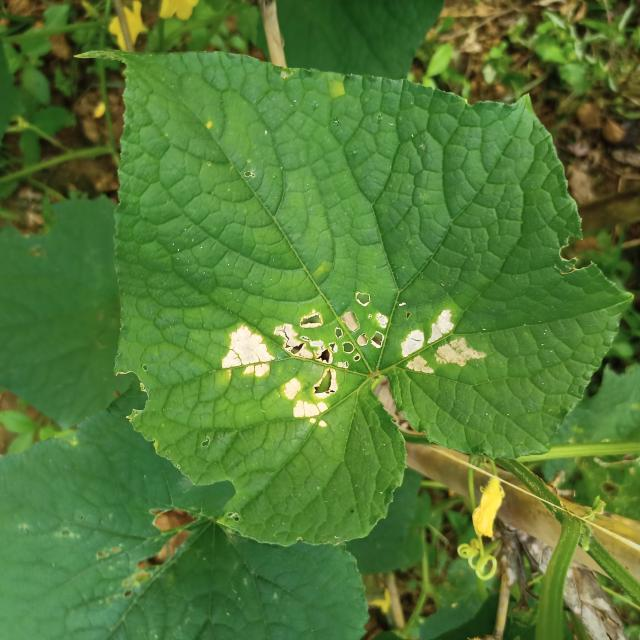disease_cucumber: (221, 286, 390, 433), (395, 302, 489, 388)
